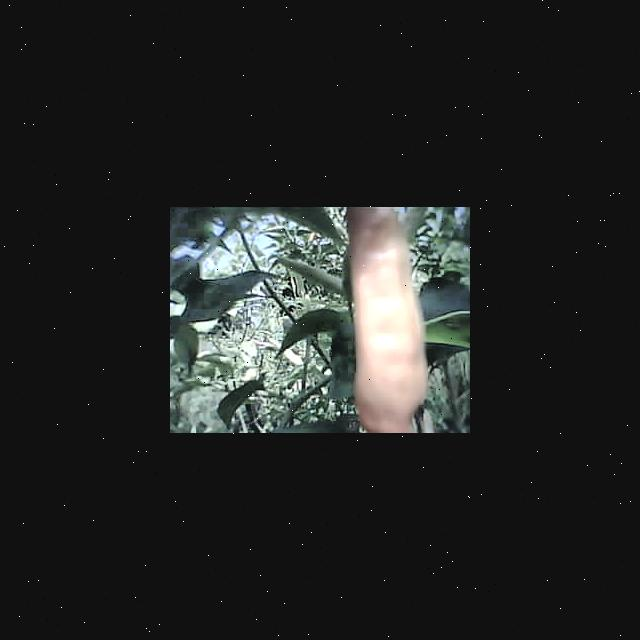Cabai: (343, 207, 446, 433)
